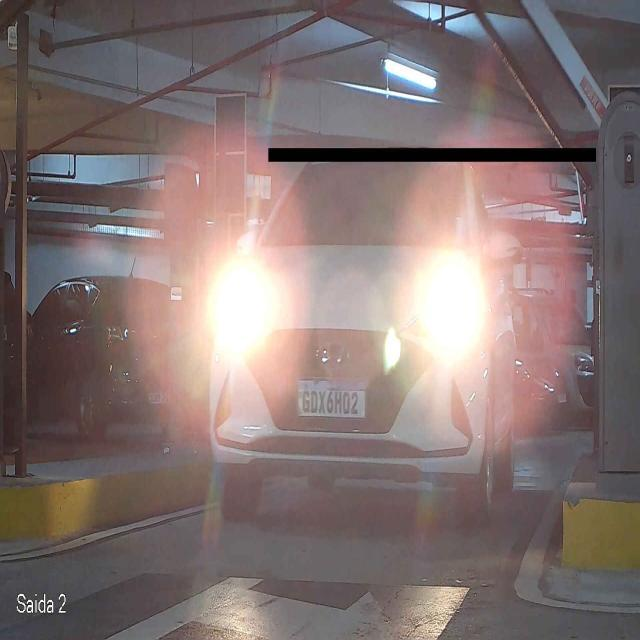mercosul_plate: (296, 377, 368, 418)
